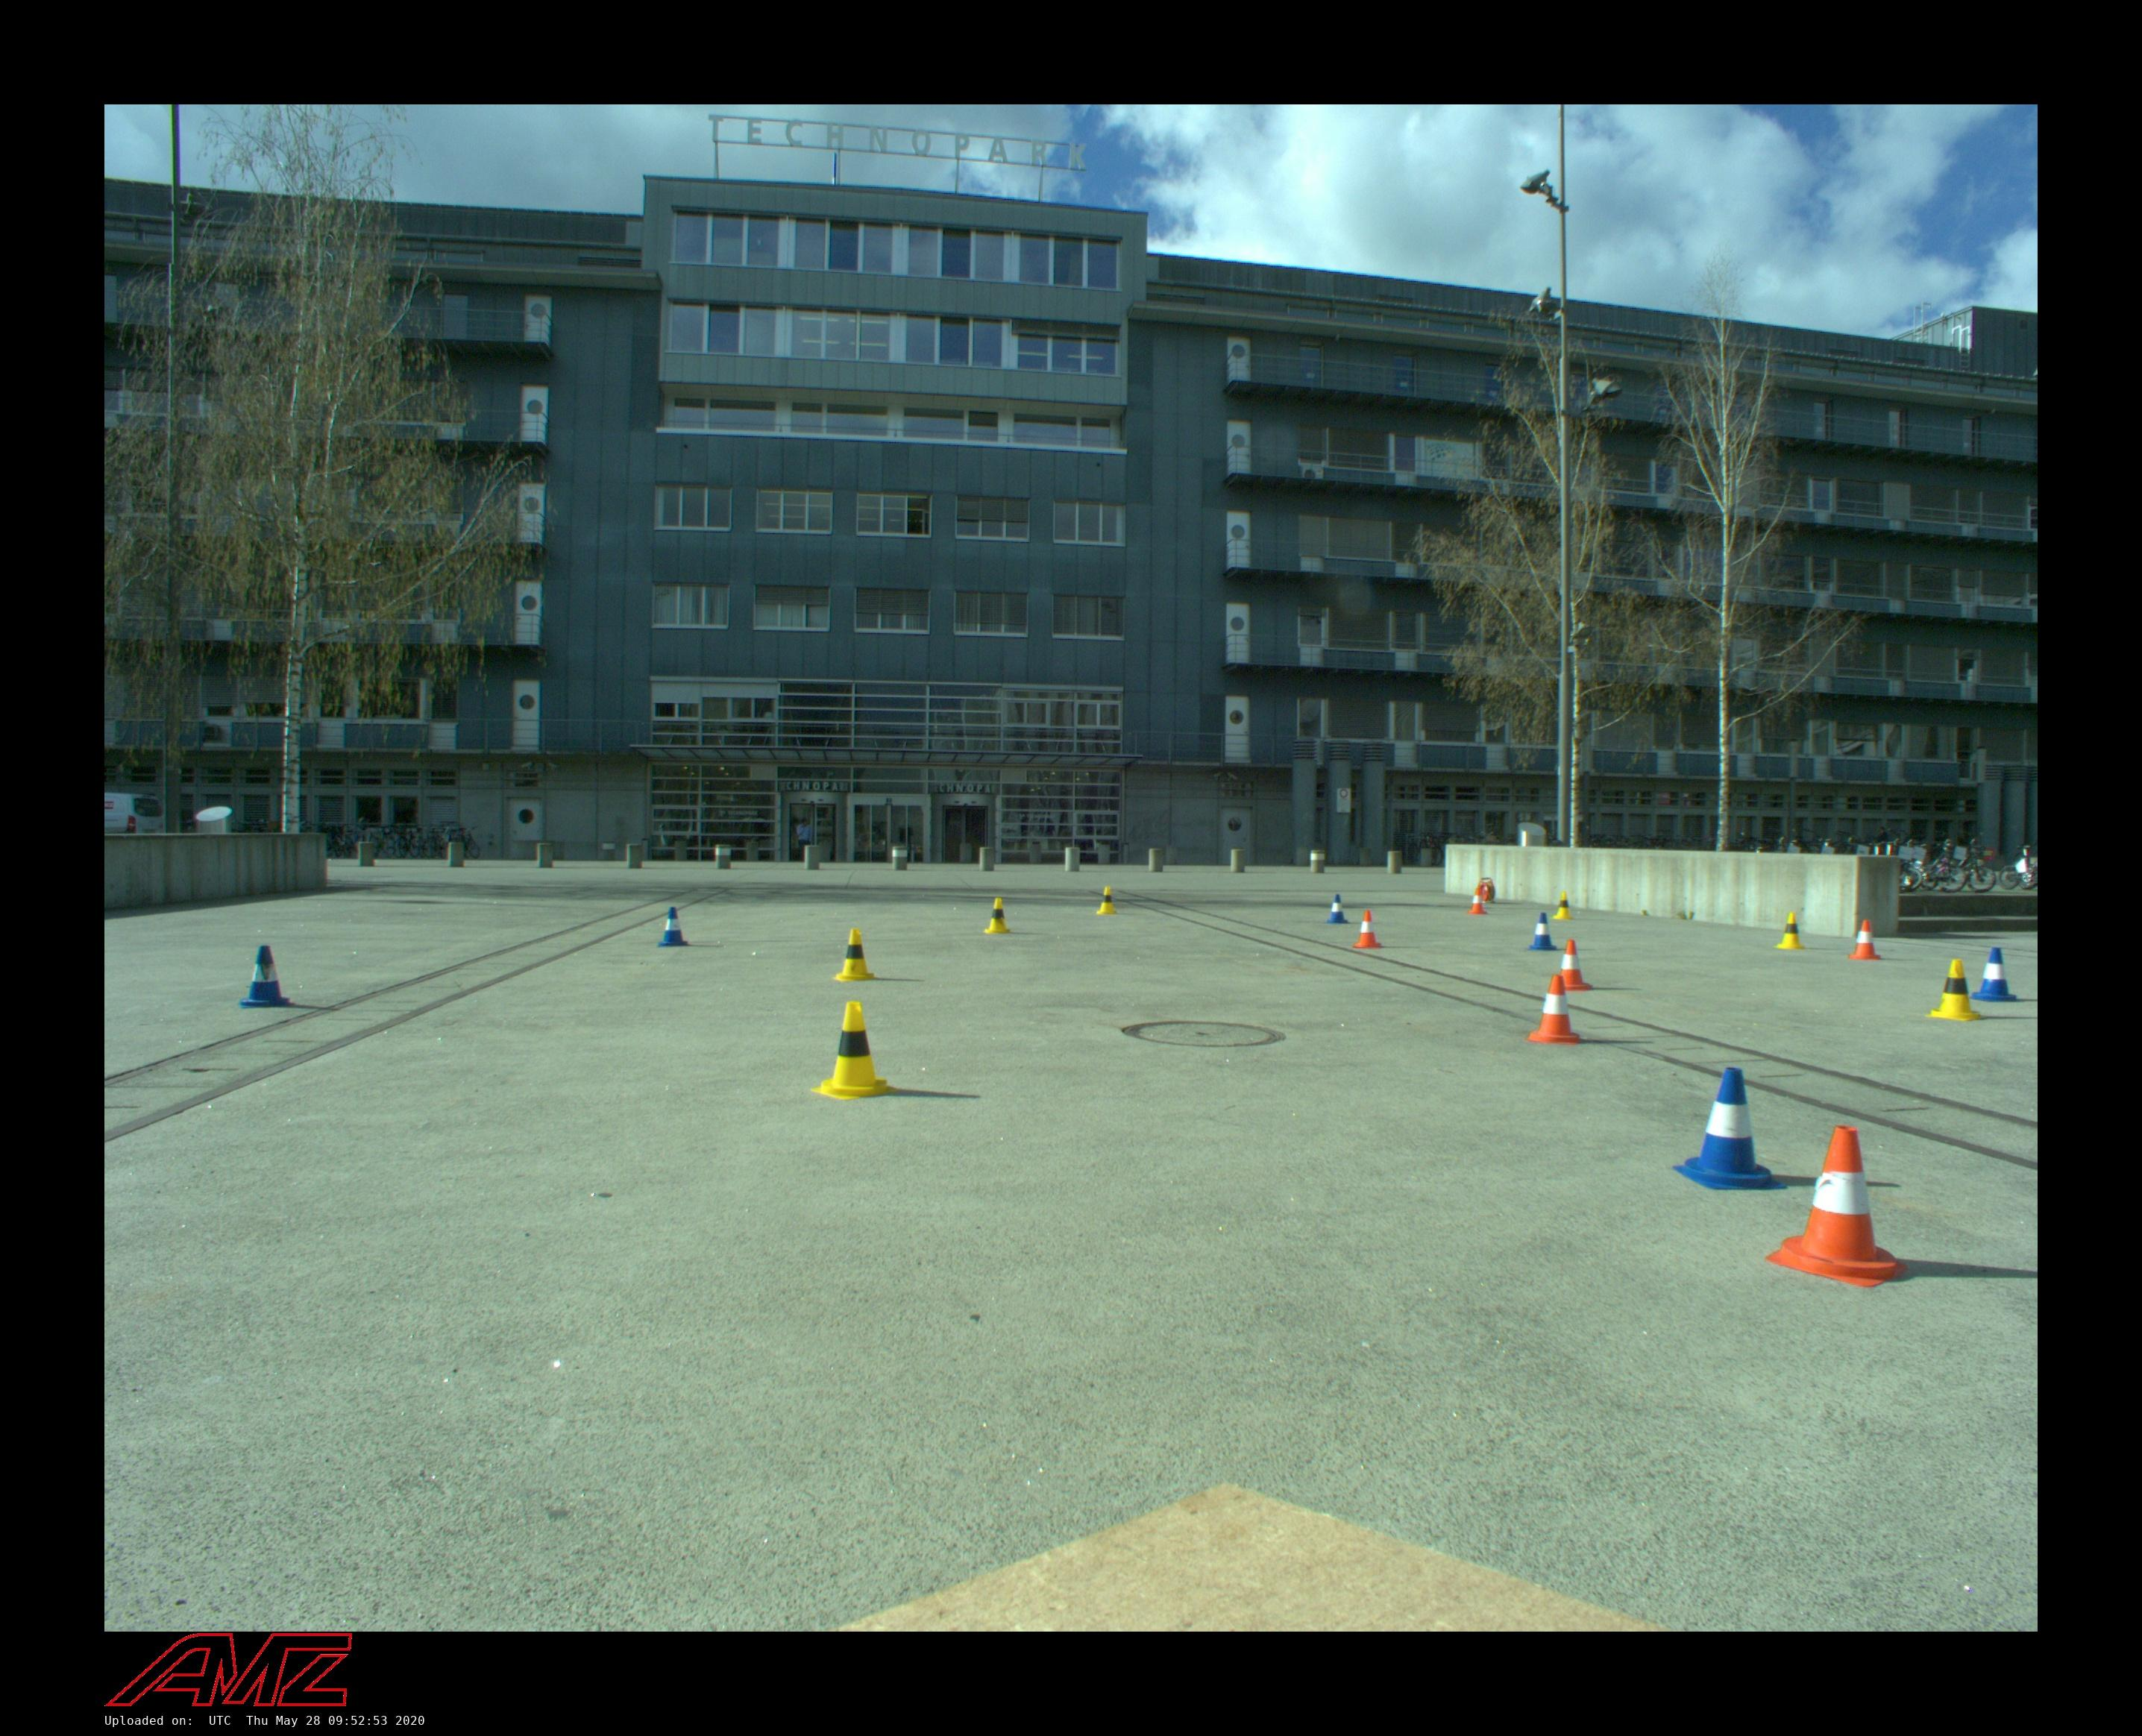blue_cone: (1671, 1066, 1784, 1190), (237, 944, 291, 1010), (1967, 948, 2025, 1003), (1525, 912, 1559, 951), (657, 907, 689, 948), (1323, 895, 1350, 925)
orange_cone: (1765, 1127, 1906, 1288), (1527, 974, 1582, 1045), (1547, 939, 1593, 992), (1848, 919, 1882, 960), (1354, 911, 1382, 949), (1467, 889, 1486, 916)
yellow_cone: (810, 1003, 898, 1100), (1926, 958, 1986, 1022), (833, 928, 879, 981), (1773, 912, 1805, 951), (983, 896, 1012, 934), (1095, 886, 1118, 916), (1552, 891, 1573, 919)
